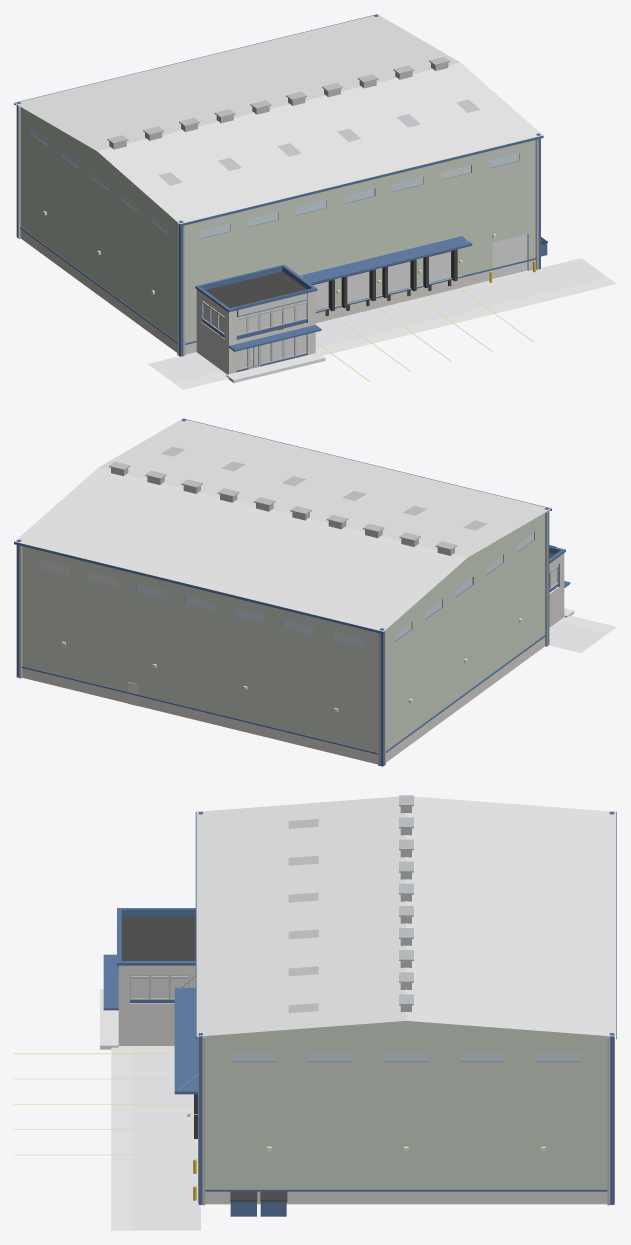
The model's file is industrial_hangar140.glb.
The picture shows the model from 3 angles, top to bottom: view 1: azimuth 30°, elevation 25°; view 2: azimuth 150°, elevation 25°; view 3: azimuth 270°, elevation 25°; orthographic projection. The views are drawn at different scales.
Visible parts, largest first — view 1: industrial_hangar140_Roof, industrial_hangar140_Walls, industrial_hangar140_Trim, industrial_hangar140_Asphalt, industrial_hangar140_Walls2, industrial_hangar140_Site, industrial_hangar140_Details, industrial_hangar140_Roof2, industrial_hangar140_Doors, industrial_hangar140_WindowsLit, industrial_hangar140_Frames, industrial_hangar140_Glass (+1 smaller); view 2: industrial_hangar140_Walls, industrial_hangar140_Roof, industrial_hangar140_Walls2, industrial_hangar140_Trim, industrial_hangar140_Details, industrial_hangar140_Glass, industrial_hangar140_Asphalt, industrial_hangar140_Frames, industrial_hangar140_WindowsLit, industrial_hangar140_Site; view 3: industrial_hangar140_Roof, industrial_hangar140_Walls, industrial_hangar140_Asphalt, industrial_hangar140_Trim, industrial_hangar140_Walls2, industrial_hangar140_Site, industrial_hangar140_Details, industrial_hangar140_Roof2, industrial_hangar140_Glass, industrial_hangar140_Frames, industrial_hangar140_Paint, industrial_hangar140_WindowsLit.
Part boxes in pixels (box(x1,y1,x2,y2)): industrial_hangar140_Roof: box(14, 14, 542, 223); industrial_hangar140_Walls: box(20, 107, 535, 343); industrial_hangar140_Trim: box(14, 14, 547, 372); industrial_hangar140_Asphalt: box(148, 258, 607, 383); industrial_hangar140_Walls2: box(20, 229, 535, 374); industrial_hangar140_Site: box(174, 277, 616, 389); industrial_hangar140_Details: box(17, 56, 538, 360); industrial_hangar140_Roof2: box(205, 237, 547, 316); industrial_hangar140_Doors: box(313, 234, 527, 310); industrial_hangar140_WindowsLit: box(122, 165, 470, 368); industrial_hangar140_Frames: box(158, 99, 480, 370); industrial_hangar140_Glass: box(32, 127, 519, 238); industrial_hangar140_Walls: box(22, 513, 544, 752); industrial_hangar140_Roof: box(15, 418, 551, 631); industrial_hangar140_Walls2: box(22, 553, 564, 764); industrial_hangar140_Trim: box(14, 418, 570, 766); industrial_hangar140_Details: box(19, 461, 548, 765); industrial_hangar140_Glass: box(136, 577, 472, 646); industrial_hangar140_Asphalt: box(549, 621, 607, 652); industrial_hangar140_Frames: box(161, 446, 558, 590); industrial_hangar140_WindowsLit: box(38, 532, 557, 586); industrial_hangar140_Site: box(559, 608, 616, 633); industrial_hangar140_Roof: box(196, 796, 616, 1036); industrial_hangar140_Walls: box(203, 1021, 609, 1189); industrial_hangar140_Asphalt: box(133, 1003, 200, 1230); industrial_hangar140_Trim: box(103, 811, 616, 1216); industrial_hangar140_Walls2: box(118, 965, 607, 1204); industrial_hangar140_Site: box(100, 989, 133, 1230); industrial_hangar140_Details: box(179, 795, 614, 1205); industrial_hangar140_Roof2: box(121, 916, 287, 1201); industrial_hangar140_Glass: box(231, 1051, 581, 1061); industrial_hangar140_Frames: box(130, 819, 318, 1013); industrial_hangar140_Paint: box(14, 1053, 193, 1155); industrial_hangar140_WindowsLit: box(131, 975, 188, 997).
Size of the model in its own units: 170 by 57.78 by 161.
